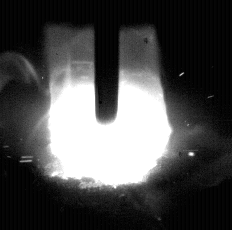arame: (96, 0, 119, 125)
poca: (48, 0, 173, 230)
